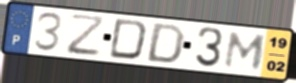3: (33, 11, 65, 53), (194, 26, 225, 69)
D: (143, 22, 188, 65), (107, 17, 150, 62)
M: (221, 30, 269, 72)
Z: (66, 13, 107, 59)
